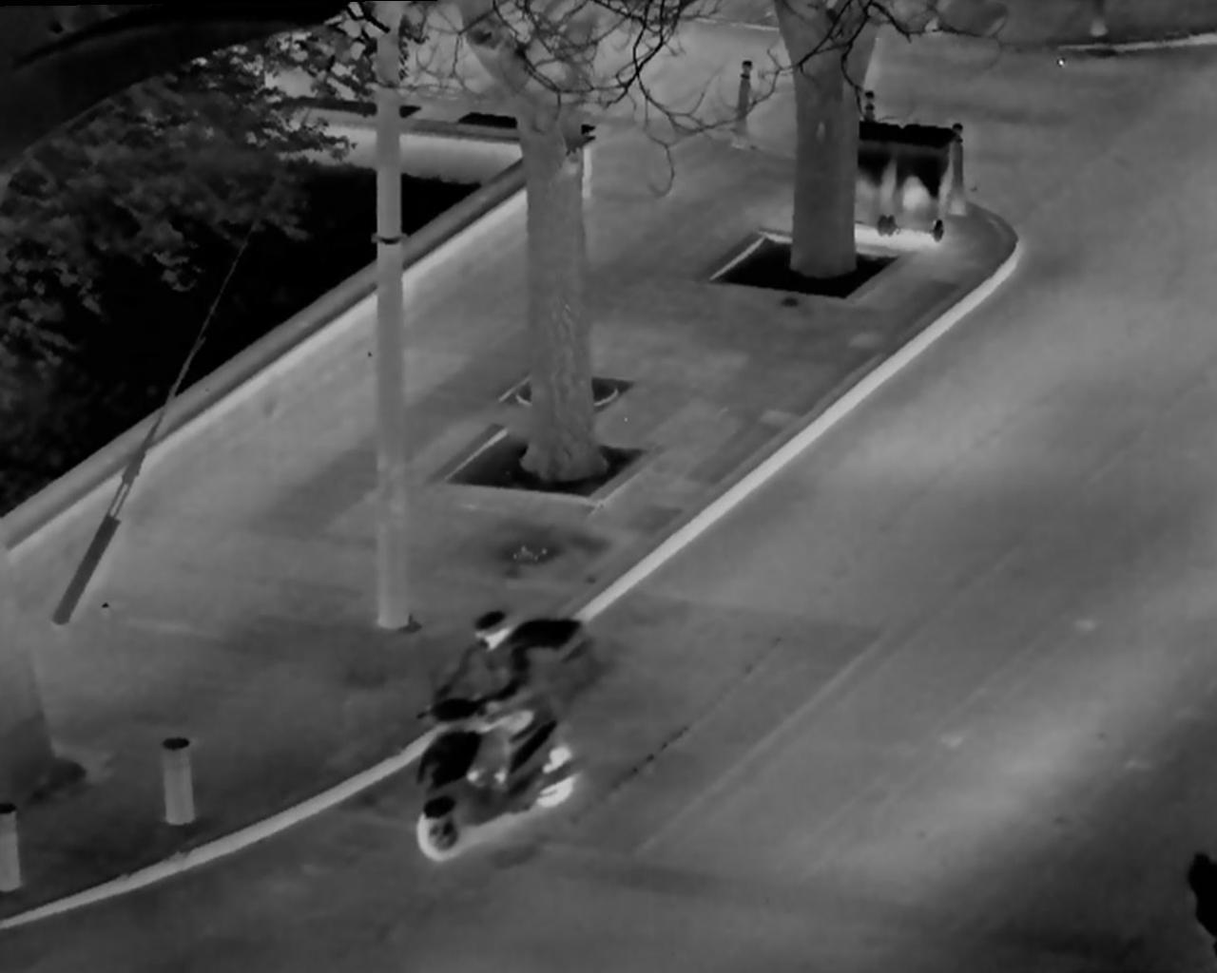person: (411, 600, 589, 837)
